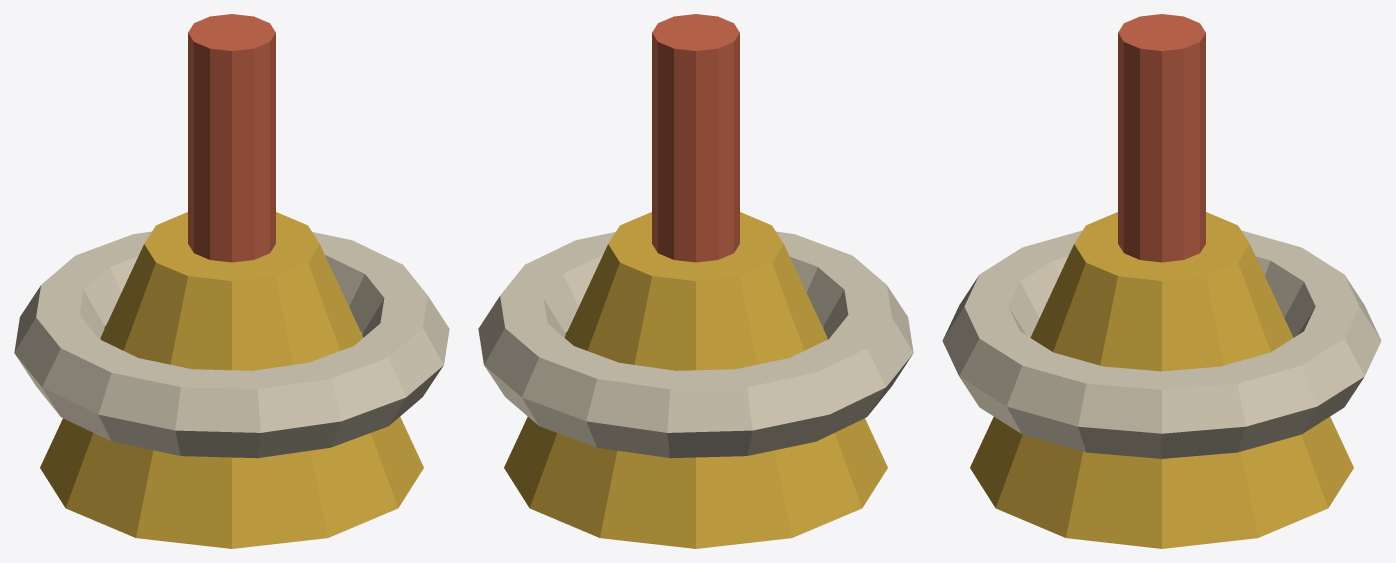
Rendered from channel_buoy.glb.
3 renders of one model, left to right at view 1: azimuth 30°, elevation 25°; view 2: azimuth 150°, elevation 25°; view 3: azimuth 270°, elevation 25°, orthographic.
Parts seen in each view (by area): view 1: channel_buoy_pc; view 2: channel_buoy_pc; view 3: channel_buoy_pc.
Part boxes in pixels (bbox=[...]): channel_buoy_pc: bbox=[14, 14, 449, 548]; channel_buoy_pc: bbox=[478, 14, 913, 548]; channel_buoy_pc: bbox=[942, 14, 1381, 548].
Size of the model in its own units: 0.8 by 0.875 by 0.8.
